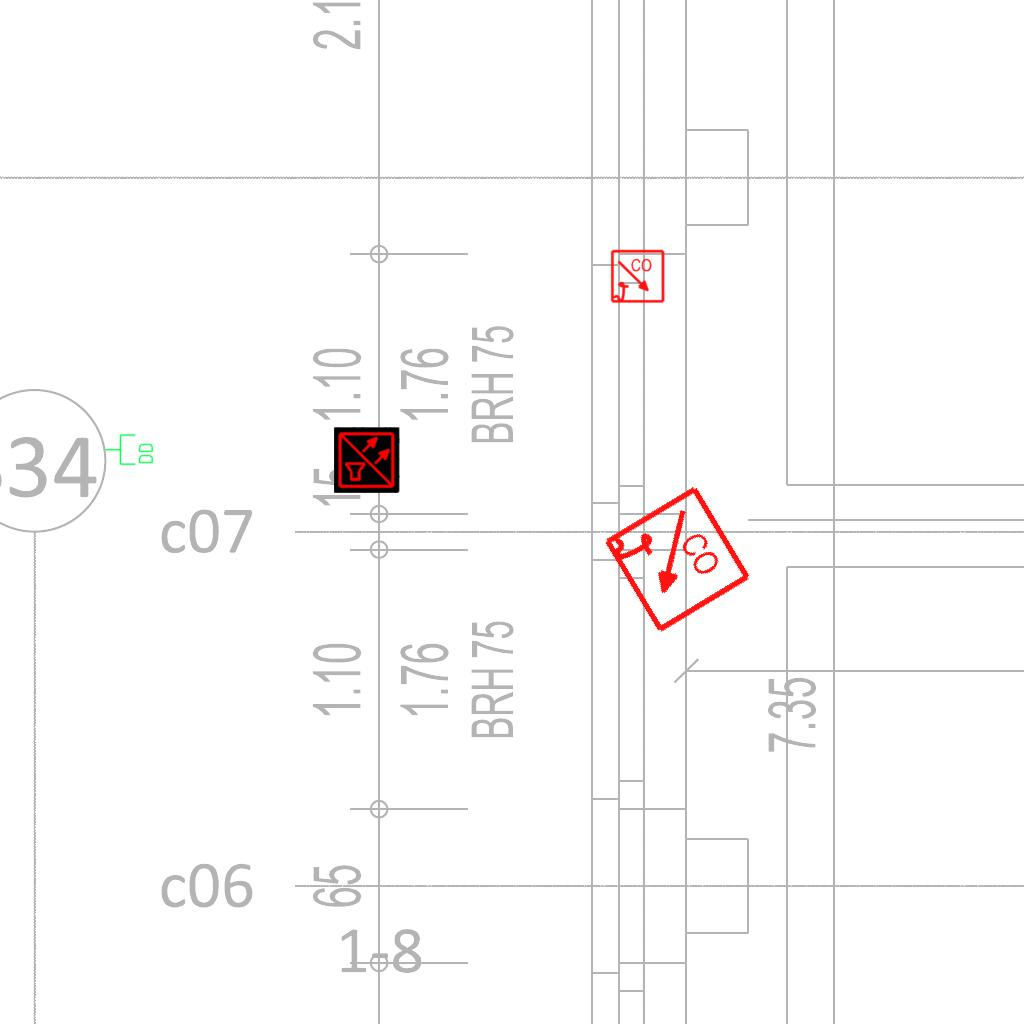Datenanschluss_zweifach: (104, 433, 155, 467)
OKW_Multisensormelder_(Kombination_optischer_Rauch-Kahlenmonoxid_Waerme-Melder): (334, 427, 400, 493)
ROA_Rauchmelder_optisch_mit_Signalgeber_(Sockelsirene): (598, 482, 755, 639), (610, 249, 666, 305)
